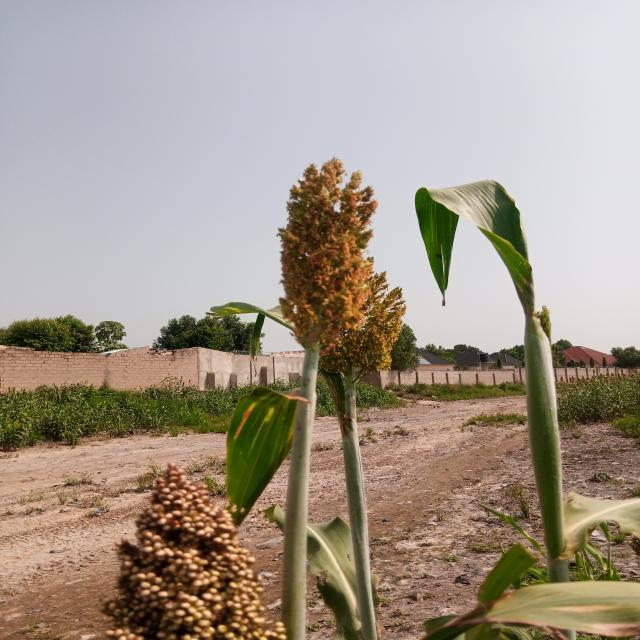UnripeSorghum: (250, 151, 416, 371)
